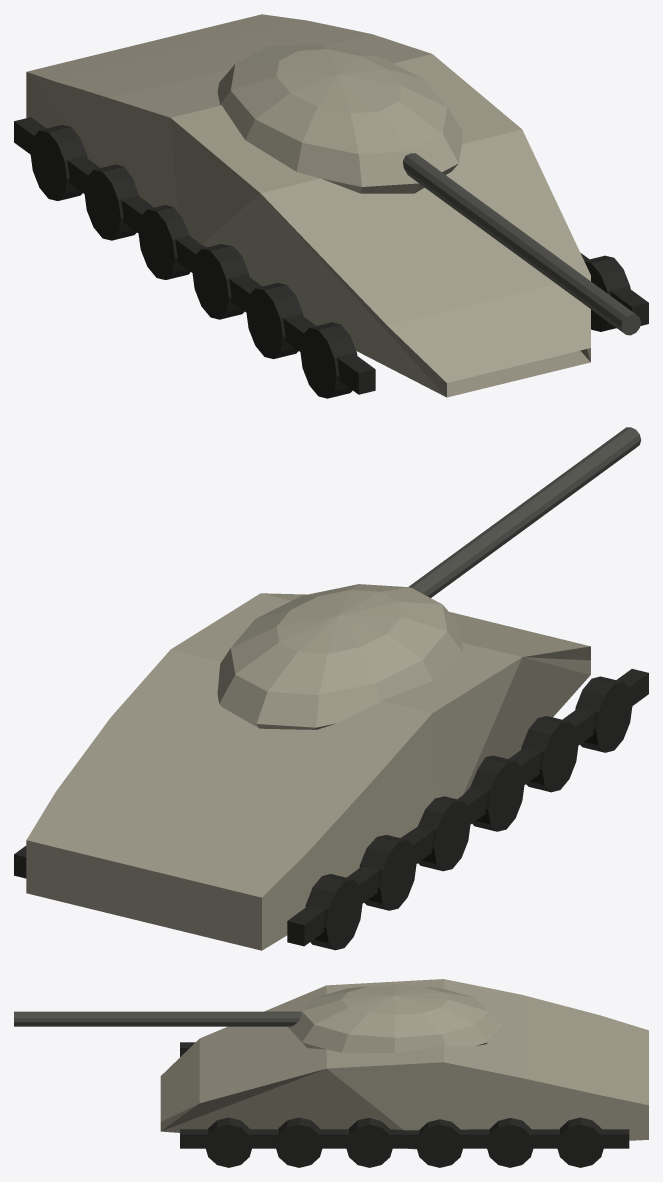
Rendered from tiger.glb.
3 views of the same model, one above another, from view 1: azimuth 30°, elevation 25°; view 2: azimuth 150°, elevation 25°; view 3: azimuth 270°, elevation 25° (orthographic). The views are drawn at different scales.
Parts seen in each view (by area): view 1: Hull, Turret, Gun, Track_L, Wheel_L_01, Wheel_L_02, Wheel_L_06, Wheel_L_03, Wheel_L_05, Wheel_L_04, Wheel_R_01, Track_R; view 2: Hull, Turret, Gun, Track_L, Wheel_L_01, Wheel_L_02, Wheel_L_06, Wheel_L_05, Wheel_L_03, Wheel_L_04; view 3: Hull, Turret, Gun, Track_R, Wheel_R_06, Wheel_R_01, Wheel_R_02, Wheel_R_05, Wheel_R_03, Wheel_R_04.
Part boxes in pixels (x1=…): Hull: x1=26, y1=14, x2=590, y2=397; Turret: x1=217, y1=43, x2=462, y2=193; Gun: x1=403, y1=153, x2=640, y2=335; Track_L: x1=14, y1=117, x2=375, y2=394; Wheel_L_01: x1=300, y1=322, x2=357, y2=398; Wheel_L_02: x1=246, y1=283, x2=303, y2=358; Wheel_L_06: x1=30, y1=125, x2=87, y2=200; Wheel_L_03: x1=192, y1=244, x2=249, y2=319; Wheel_L_05: x1=84, y1=164, x2=138, y2=240; Wheel_L_04: x1=138, y1=205, x2=190, y2=279; Wheel_R_01: x1=584, y1=255, x2=630, y2=331; Track_R: x1=580, y1=253, x2=648, y2=325; Hull: x1=26, y1=593, x2=590, y2=950; Turret: x1=217, y1=584, x2=462, y2=729; Gun: x1=408, y1=427, x2=640, y2=597; Track_L: x1=287, y1=669, x2=648, y2=946; Wheel_L_01: x1=575, y1=676, x2=632, y2=752; Wheel_L_02: x1=521, y1=716, x2=578, y2=792; Wheel_L_06: x1=305, y1=874, x2=362, y2=950; Wheel_L_05: x1=359, y1=835, x2=416, y2=910; Wheel_L_03: x1=470, y1=755, x2=524, y2=831; Wheel_L_04: x1=418, y1=796, x2=470, y2=871; Hull: x1=160, y1=979, x2=648, y2=1149; Turret: x1=288, y1=984, x2=501, y2=1052; Gun: x1=14, y1=1011, x2=301, y2=1026; Track_R: x1=180, y1=1129, x2=629, y2=1148; Wheel_R_06: x1=556, y1=1117, x2=604, y2=1167; Wheel_R_01: x1=205, y1=1117, x2=252, y2=1167; Wheel_R_02: x1=275, y1=1117, x2=322, y2=1167; Wheel_R_05: x1=486, y1=1118, x2=533, y2=1167; Wheel_R_03: x1=345, y1=1118, x2=393, y2=1167; Wheel_R_04: x1=416, y1=1119, x2=463, y2=1167.
Size of the model in its own units: 3.85 by 2.39 by 10.98.
